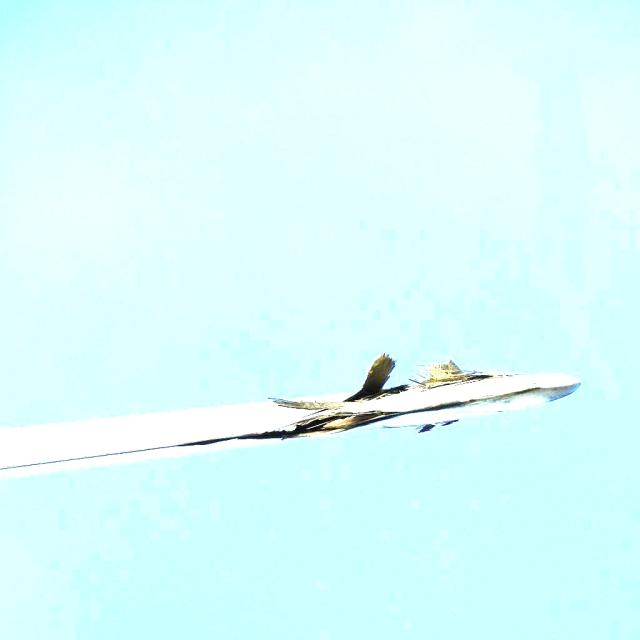crack: (264, 350, 492, 448)
